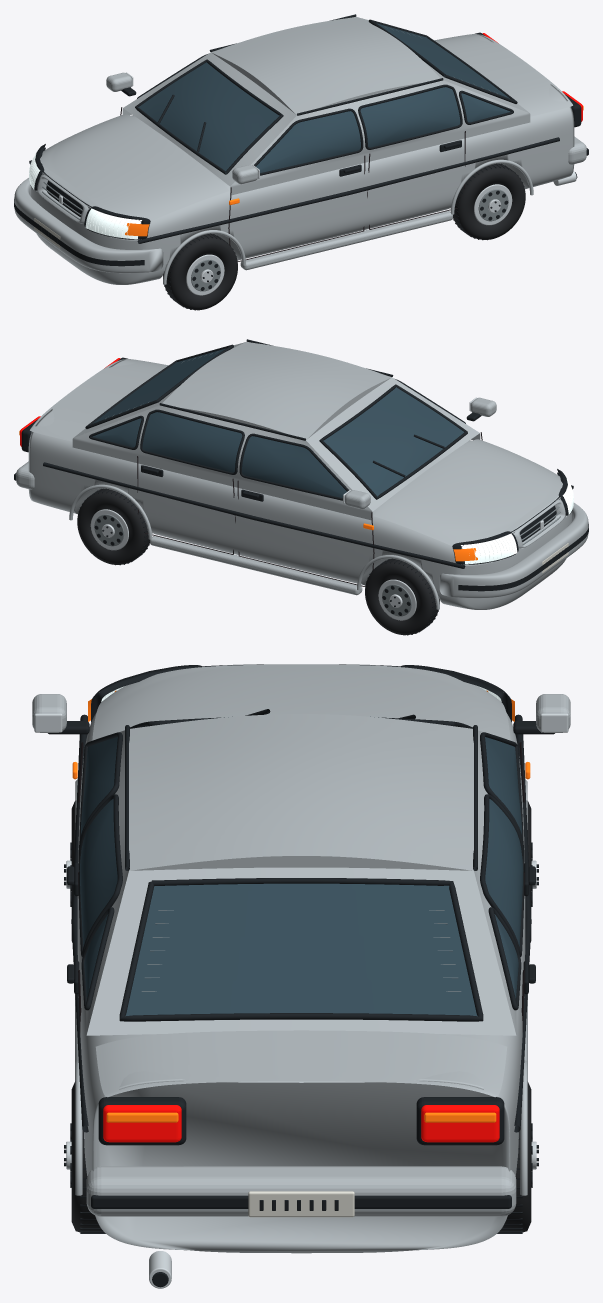
File: ten.glb
3 views of the same model, one above another, from view 1: azimuth 30°, elevation 25°; view 2: azimuth 150°, elevation 25°; view 3: azimuth 270°, elevation 25° (orthographic). The views are drawn at different scales.
Parts seen in each view (by area): view 1: Body_Paint_ten, Body_Curved smoked glass.006, Body_Black trim.006, StockBumpers_Paint_ten, Wheel_FR_Tyre.006, Wheel_RR_Tyre.006, StockSkirts_Paint_ten, Body_Prismatic headlight glass.006, StockFenders_Paint_ten, StockBumpers_Black trim.006, Wheel_RR_Machined aluminium.006, Wheel_FR_Machined aluminium.006 (+5 smaller); view 2: Body_Paint_ten, Body_Curved smoked glass.006, Body_Black trim.006, StockBumpers_Paint_ten, Wheel_FL_Tyre.006, Wheel_RL_Tyre.006, StockSkirts_Paint_ten, Body_Prismatic headlight glass.006, StockFenders_Paint_ten, StockBumpers_Black trim.006, Wheel_RL_Machined aluminium.006, Wheel_FL_Machined aluminium.006 (+5 smaller); view 3: Body_Paint_ten, Body_Curved smoked glass.006, Body_Black trim.006, StockBumpers_Paint_ten, Body_Red lens.006, StockBumpers_Black trim.006, Body_Numberplate.006, StockFenders_Paint_ten, Body_Amber lens.006, Body_Machined aluminium.006, Wheel_RR_Tyre.006, Wheel_RL_Tyre.006.
Part boxes in pixels (left/top/right/bottom): Body_Paint_ten: left=31, top=17, right=574, bottom=284; Body_Curved smoked glass.006: left=138, top=23, right=510, bottom=172; Body_Black trim.006: left=29, top=14, right=581, bottom=243; StockBumpers_Paint_ten: left=14, top=136, right=586, bottom=273; Wheel_FR_Tyre.006: left=163, top=233, right=237, bottom=310; Wheel_RR_Tyre.006: left=450, top=163, right=525, bottom=239; StockSkirts_Paint_ten: left=240, top=210, right=452, bottom=270; Body_Prismatic headlight glass.006: left=29, top=150, right=141, bottom=239; StockFenders_Paint_ten: left=163, top=159, right=533, bottom=284; StockBumpers_Black trim.006: left=14, top=148, right=588, bottom=266; Wheel_RR_Machined aluminium.006: left=474, top=184, right=512, bottom=225; Wheel_FR_Machined aluminium.006: left=186, top=254, right=224, bottom=295; Body_Paint_ten: left=28, top=342, right=571, bottom=609; Body_Curved smoked glass.006: left=92, top=348, right=464, bottom=497; Body_Black trim.006: left=21, top=339, right=573, bottom=568; StockBumpers_Paint_ten: left=16, top=461, right=588, bottom=598; Wheel_FL_Tyre.006: left=365, top=558, right=439, bottom=635; Wheel_RL_Tyre.006: left=77, top=488, right=152, bottom=564; StockSkirts_Paint_ten: left=150, top=535, right=362, bottom=595; Body_Prismatic headlight glass.006: left=461, top=475, right=573, bottom=564; StockFenders_Paint_ten: left=69, top=484, right=439, bottom=609; StockBumpers_Black trim.006: left=14, top=473, right=588, bottom=591; Wheel_RL_Machined aluminium.006: left=90, top=509, right=128, bottom=550; Wheel_FL_Machined aluminium.006: left=378, top=579, right=416, bottom=620; Body_Paint_ten: left=32, top=664, right=570, bottom=1253; Body_Curved smoked glass.006: left=79, top=716, right=523, bottom=1016; Body_Black trim.006: left=48, top=664, right=554, bottom=1287; StockBumpers_Paint_ten: left=86, top=1166, right=516, bottom=1216; Body_Red lens.006: left=103, top=1105, right=499, bottom=1142; StockBumpers_Black trim.006: left=91, top=1195, right=511, bottom=1208; Body_Numberplate.006: left=248, top=1191, right=354, bottom=1217; StockFenders_Paint_ten: left=75, top=779, right=527, bottom=1195; Body_Amber lens.006: left=72, top=690, right=530, bottom=1122; Body_Machined aluminium.006: left=34, top=713, right=568, bottom=1288; Wheel_RR_Tyre.006: left=71, top=1081, right=104, bottom=1232; Wheel_RL_Tyre.006: left=498, top=1081, right=531, bottom=1232.
Size of the model in its own units: 4.27 by 1.42 by 2.02.
